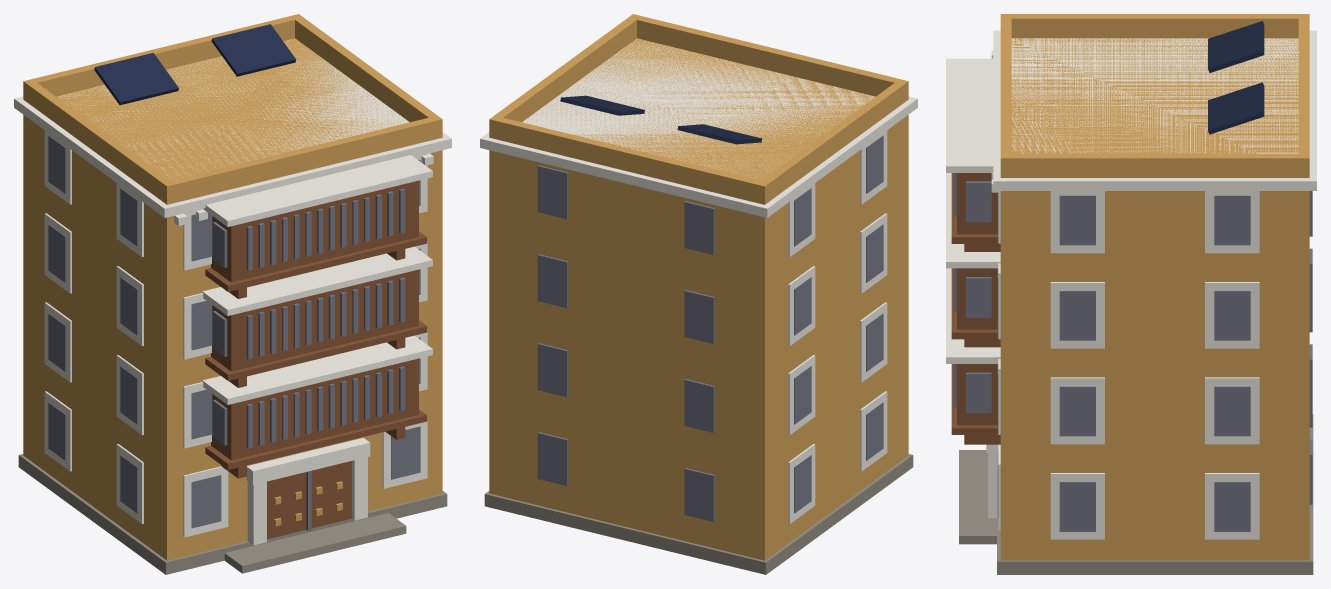
Rendered from house-1x1-4f-quincha-a-solar.glb.
The picture shows the model from 3 angles, left to right: view 1: azimuth 30°, elevation 25°; view 2: azimuth 150°, elevation 25°; view 3: azimuth 270°, elevation 25°; orthographic projection. The views are drawn at different scales.
Parts seen in each view (by area): view 1: house-1x1-4f-quincha-a-solar; view 2: house-1x1-4f-quincha-a-solar; view 3: house-1x1-4f-quincha-a-solar.
Boxes of the visible parts, <box> form: house-1x1-4f-quincha-a-solar: <box>14,14,451,574</box>; house-1x1-4f-quincha-a-solar: <box>480,14,917,574</box>; house-1x1-4f-quincha-a-solar: <box>946,14,1316,574</box>.
Size of the model in its own units: 0.98 by 1.32 by 1.02.
Materials: 1 (1 with a texture image).
